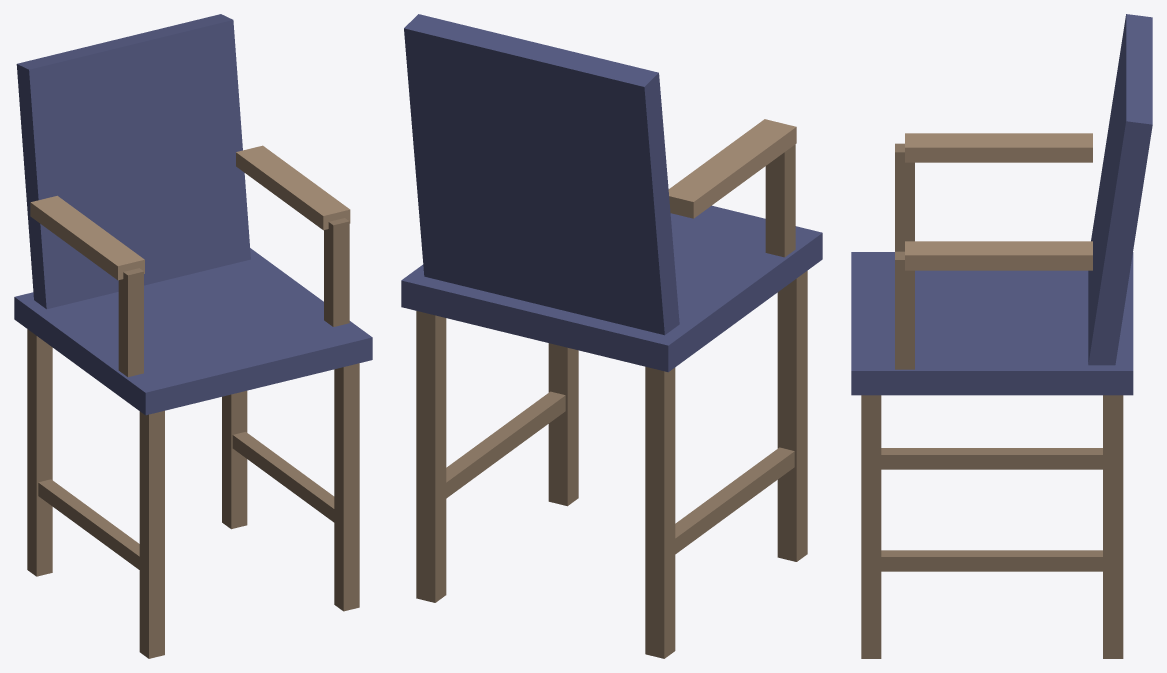
Rendered from chaise.glb.
3 views of the same model, side by side, from view 1: azimuth 30°, elevation 25°; view 2: azimuth 150°, elevation 25°; view 3: azimuth 270°, elevation 25° (orthographic). The views are drawn at different scales.
Parts seen in each view (by area): view 1: Chair_Backrest, Chair_Seat, Chair_Leg_2, Chair_Leg_3, Chair_Leg_0, Chair_Armrest_L, Chair_Armrest_R, Chair_Leg_1, Chair_ArmSupport_R, Chair_ArmSupport_L, Chair_Stretcher_1, Chair_Stretcher_0; view 2: Chair_Backrest, Chair_Seat, Chair_Leg_0, Chair_Leg_1, Chair_Leg_2, Chair_Armrest_L, Chair_Leg_3, Chair_Stretcher_1, Chair_Stretcher_0, Chair_ArmSupport_L; view 3: Chair_Seat, Chair_Backrest, Chair_Armrest_L, Chair_Armrest_R, Chair_Leg_1, Chair_Leg_3, Chair_Stretcher_0, Chair_Stretcher_1, Chair_ArmSupport_R, Chair_ArmSupport_L.
Boxes of the visible parts, x1,y1,x2,y2 form: Chair_Backrest: (16, 14, 250, 309); Chair_Seat: (14, 248, 372, 415); Chair_Leg_2: (139, 410, 164, 658); Chair_Leg_3: (334, 363, 359, 611); Chair_Leg_0: (27, 329, 52, 576); Chair_Armrest_L: (30, 195, 144, 280); Chair_Armrest_R: (236, 145, 350, 230); Chair_Leg_1: (222, 390, 247, 529); Chair_ArmSupport_R: (324, 218, 349, 326); Chair_ArmSupport_L: (118, 268, 143, 377); Chair_Stretcher_1: (232, 432, 334, 522); Chair_Stretcher_0: (38, 479, 139, 569); Chair_Backrest: (404, 14, 679, 335); Chair_Seat: (401, 205, 822, 372); Chair_Leg_0: (645, 366, 675, 658); Chair_Leg_1: (416, 311, 446, 602); Chair_Leg_2: (777, 270, 807, 561); Chair_Armrest_L: (668, 119, 796, 218); Chair_Leg_3: (548, 343, 578, 506); Chair_Stretcher_1: (446, 391, 565, 498); Chair_Stretcher_0: (675, 447, 794, 554); Chair_ArmSupport_L: (765, 144, 795, 257); Chair_Seat: (851, 252, 1133, 395); Chair_Backrest: (1088, 14, 1152, 365); Chair_Armrest_L: (905, 133, 1092, 162); Chair_Armrest_R: (905, 241, 1092, 270); Chair_Leg_1: (1103, 395, 1123, 658); Chair_Leg_3: (861, 395, 881, 658); Chair_Stretcher_0: (881, 448, 1102, 469); Chair_Stretcher_1: (881, 550, 1102, 571); Chair_ArmSupport_R: (895, 251, 914, 369); Chair_ArmSupport_L: (895, 143, 914, 251).
Bounding box in the file's own units: 0.43 × 0.8807 × 0.449.
